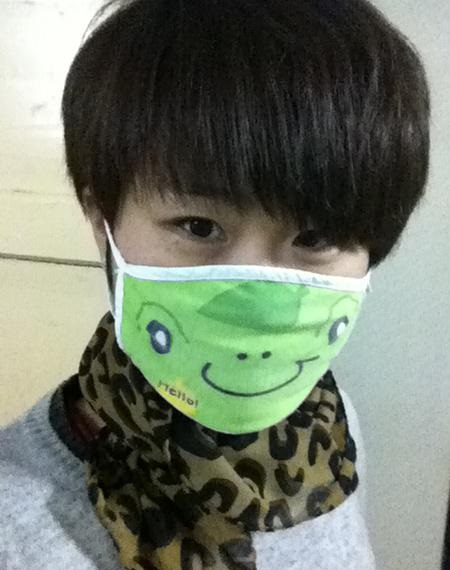face_mask: (123, 99, 366, 422)
